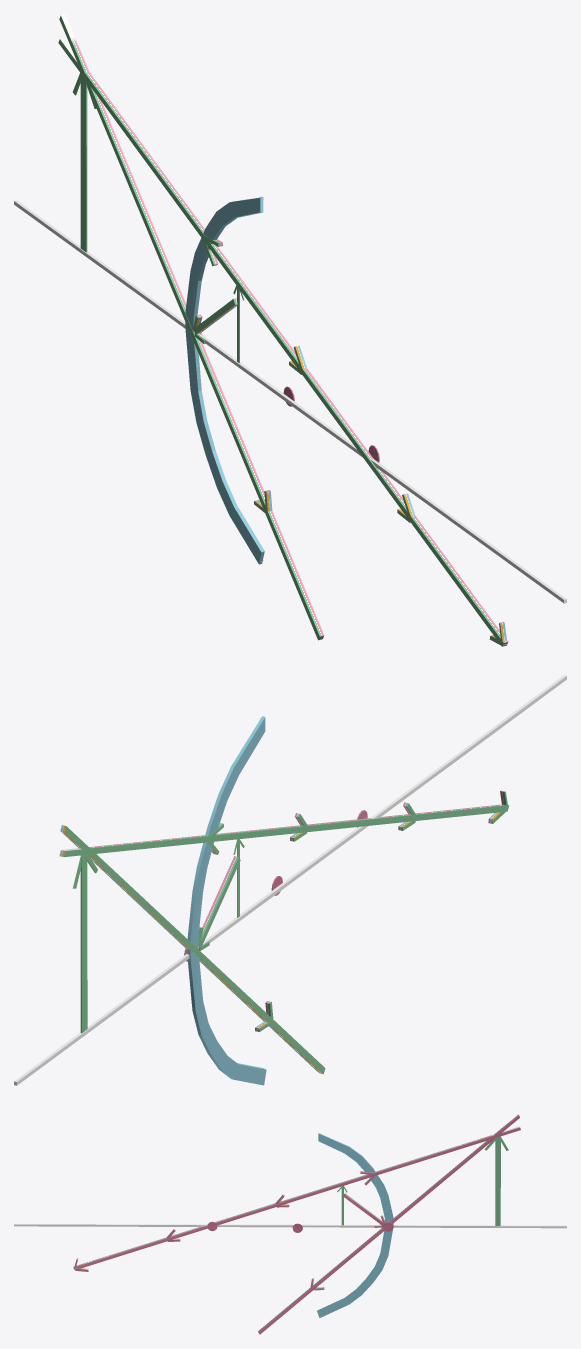
Rendered from case6.fbx.
3 views of the same model, one above another, from view 1: azimuth 30°, elevation 25°; view 2: azimuth 150°, elevation 25°; view 3: azimuth 270°, elevation 25° (orthographic). The views are drawn at different scales.
Parts seen in each view (by area): view 1: case6; view 2: case6; view 3: case6.
Part boxes in pixels (box(x1,y1,x2,y2)): case6: box(14, 14, 566, 646); case6: box(14, 675, 566, 1085); case6: box(14, 1114, 566, 1334).
Bounding box in the file's own units: 1.02 × 45.81 × 105.
1 material, 1 textured.
